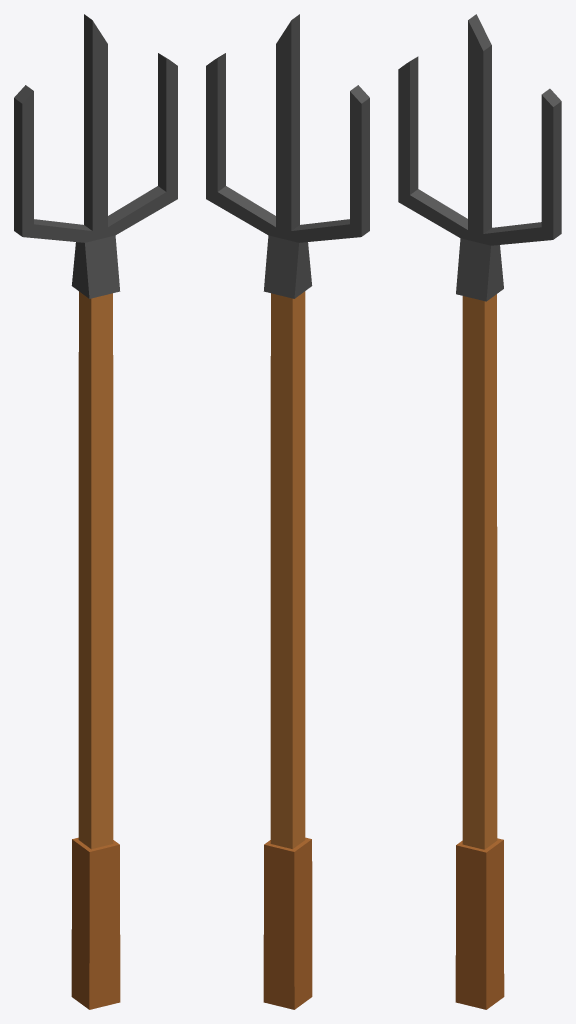
Rendered from WoodFork.fbx.
3 views of the same model, side by side, from view 1: azimuth 30°, elevation 25°; view 2: azimuth 150°, elevation 25°; view 3: azimuth 330°, elevation 25° (orthographic).
Parts seen in each view (by area): view 1: WoodFork; view 2: WoodFork; view 3: WoodFork.
Part boxes in pixels (<box>): WoodFork: <box>14,14,177,1009</box>; WoodFork: <box>206,14,369,1009</box>; WoodFork: <box>398,14,561,1009</box>.
Bounding box in the file's own units: 75.06 × 454 × 14.87.
